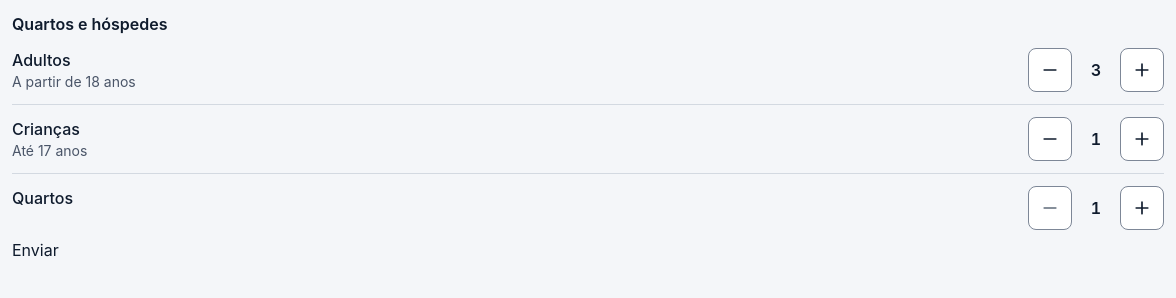
Scenario: GuestsPicker › o motivo do teto fica no controle que a pessoa acabou de mexer
Step 1. Click the button named "Aumentar crianças" → (1142,139), box [1120,117,1164,161]
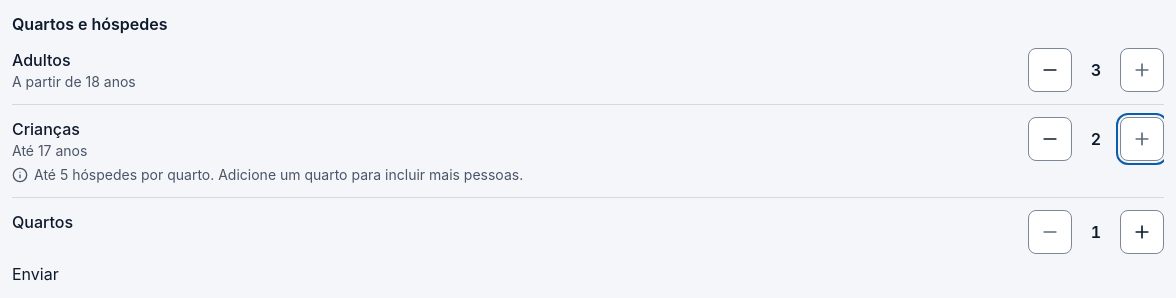
Expected: the text "Até 5 hóspedes por quarto." is shown once, [34,165,523,185]
